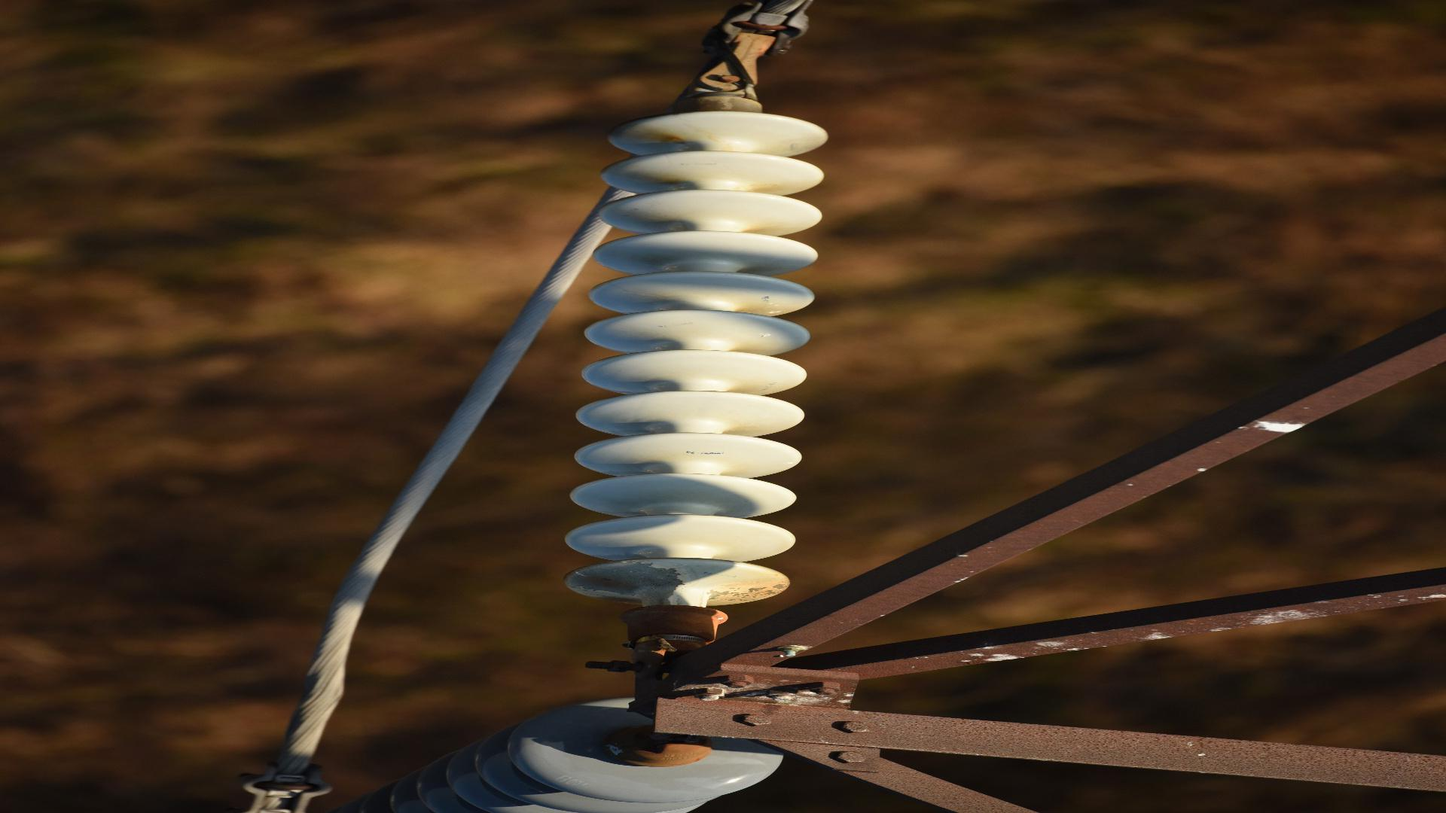insulator: (556, 107, 834, 617), (358, 688, 787, 813)
insulator_flashover: (561, 558, 685, 600)
